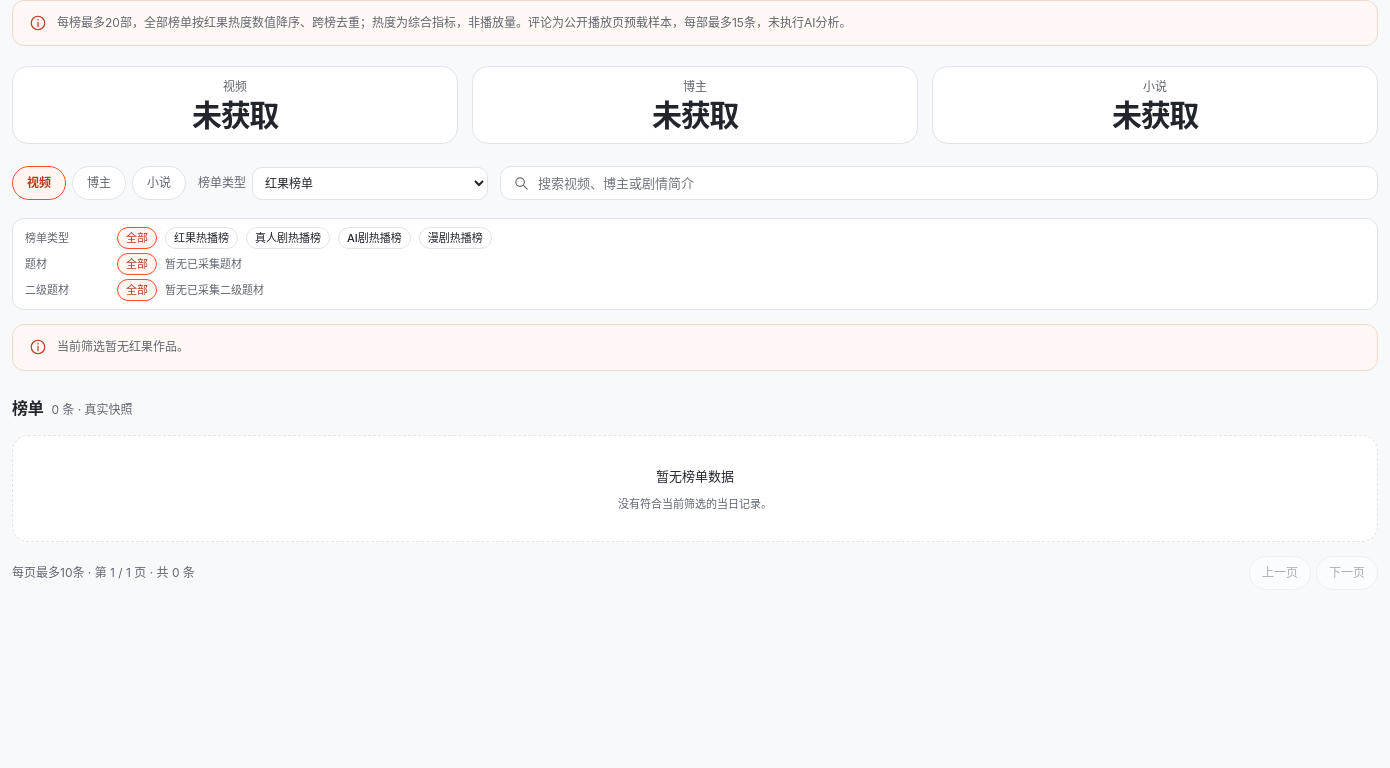
每日热门榜采用平台分类来源，不显示旧关键词搜索口径
Select "小剧场 · 红狐每日热门作品榜 · 数据日期 2026-10-16" in the dropdown labelled "榜单类型" at (370, 183), box left=252, top=167, right=488, bottom=200
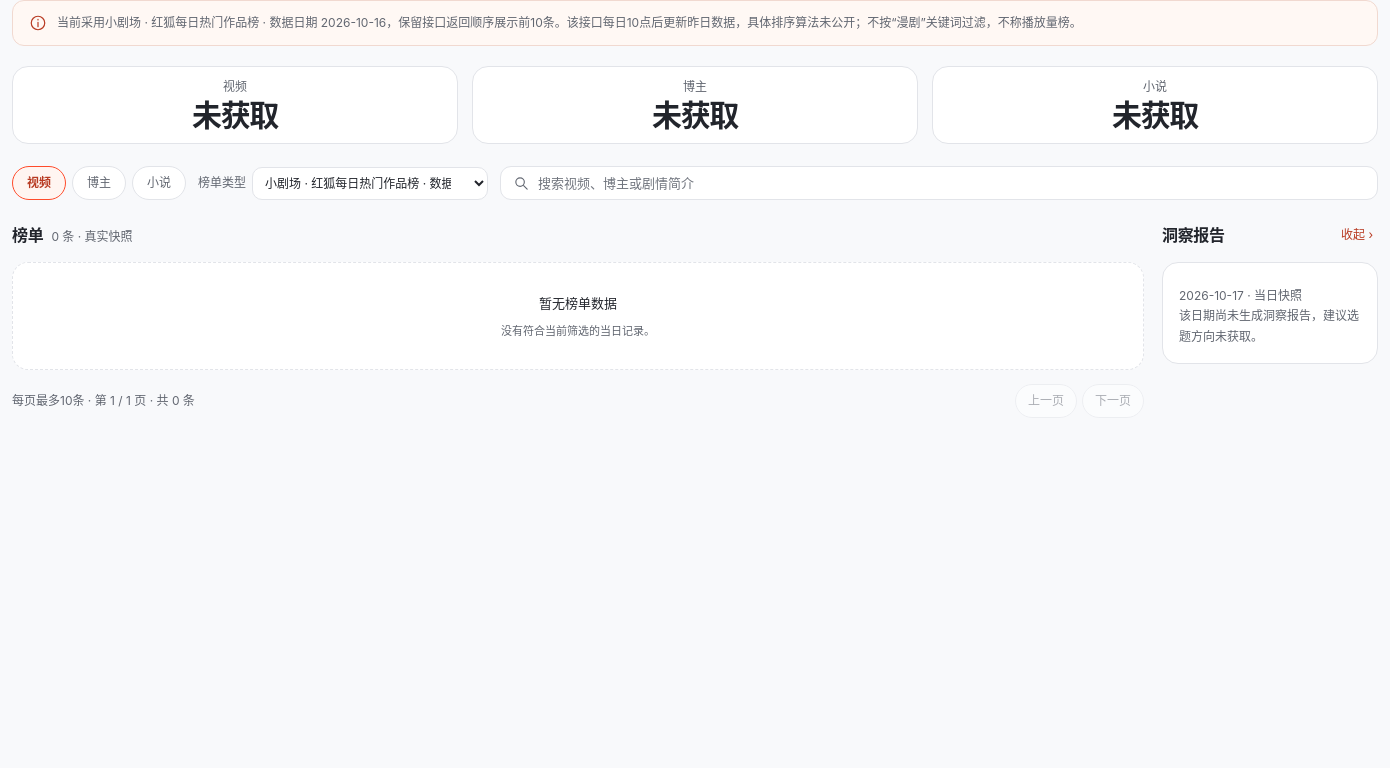
Result: the text "保留接口返回顺序展示前10条" is shown at left=386, top=15, right=1082, bottom=30
Result: the element with class "notice" shows "数据日期 2026-10-16" at left=105, top=15, right=386, bottom=30
